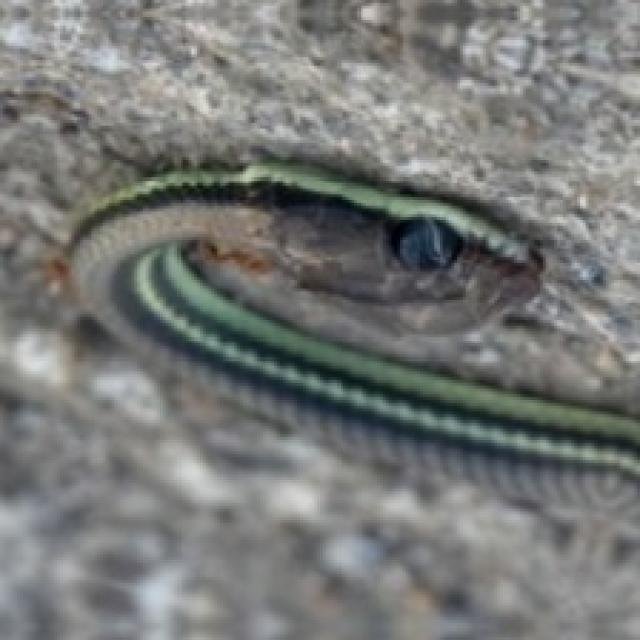philippine bronzeback treesnake: (71, 160, 637, 637), (71, 160, 637, 534)
